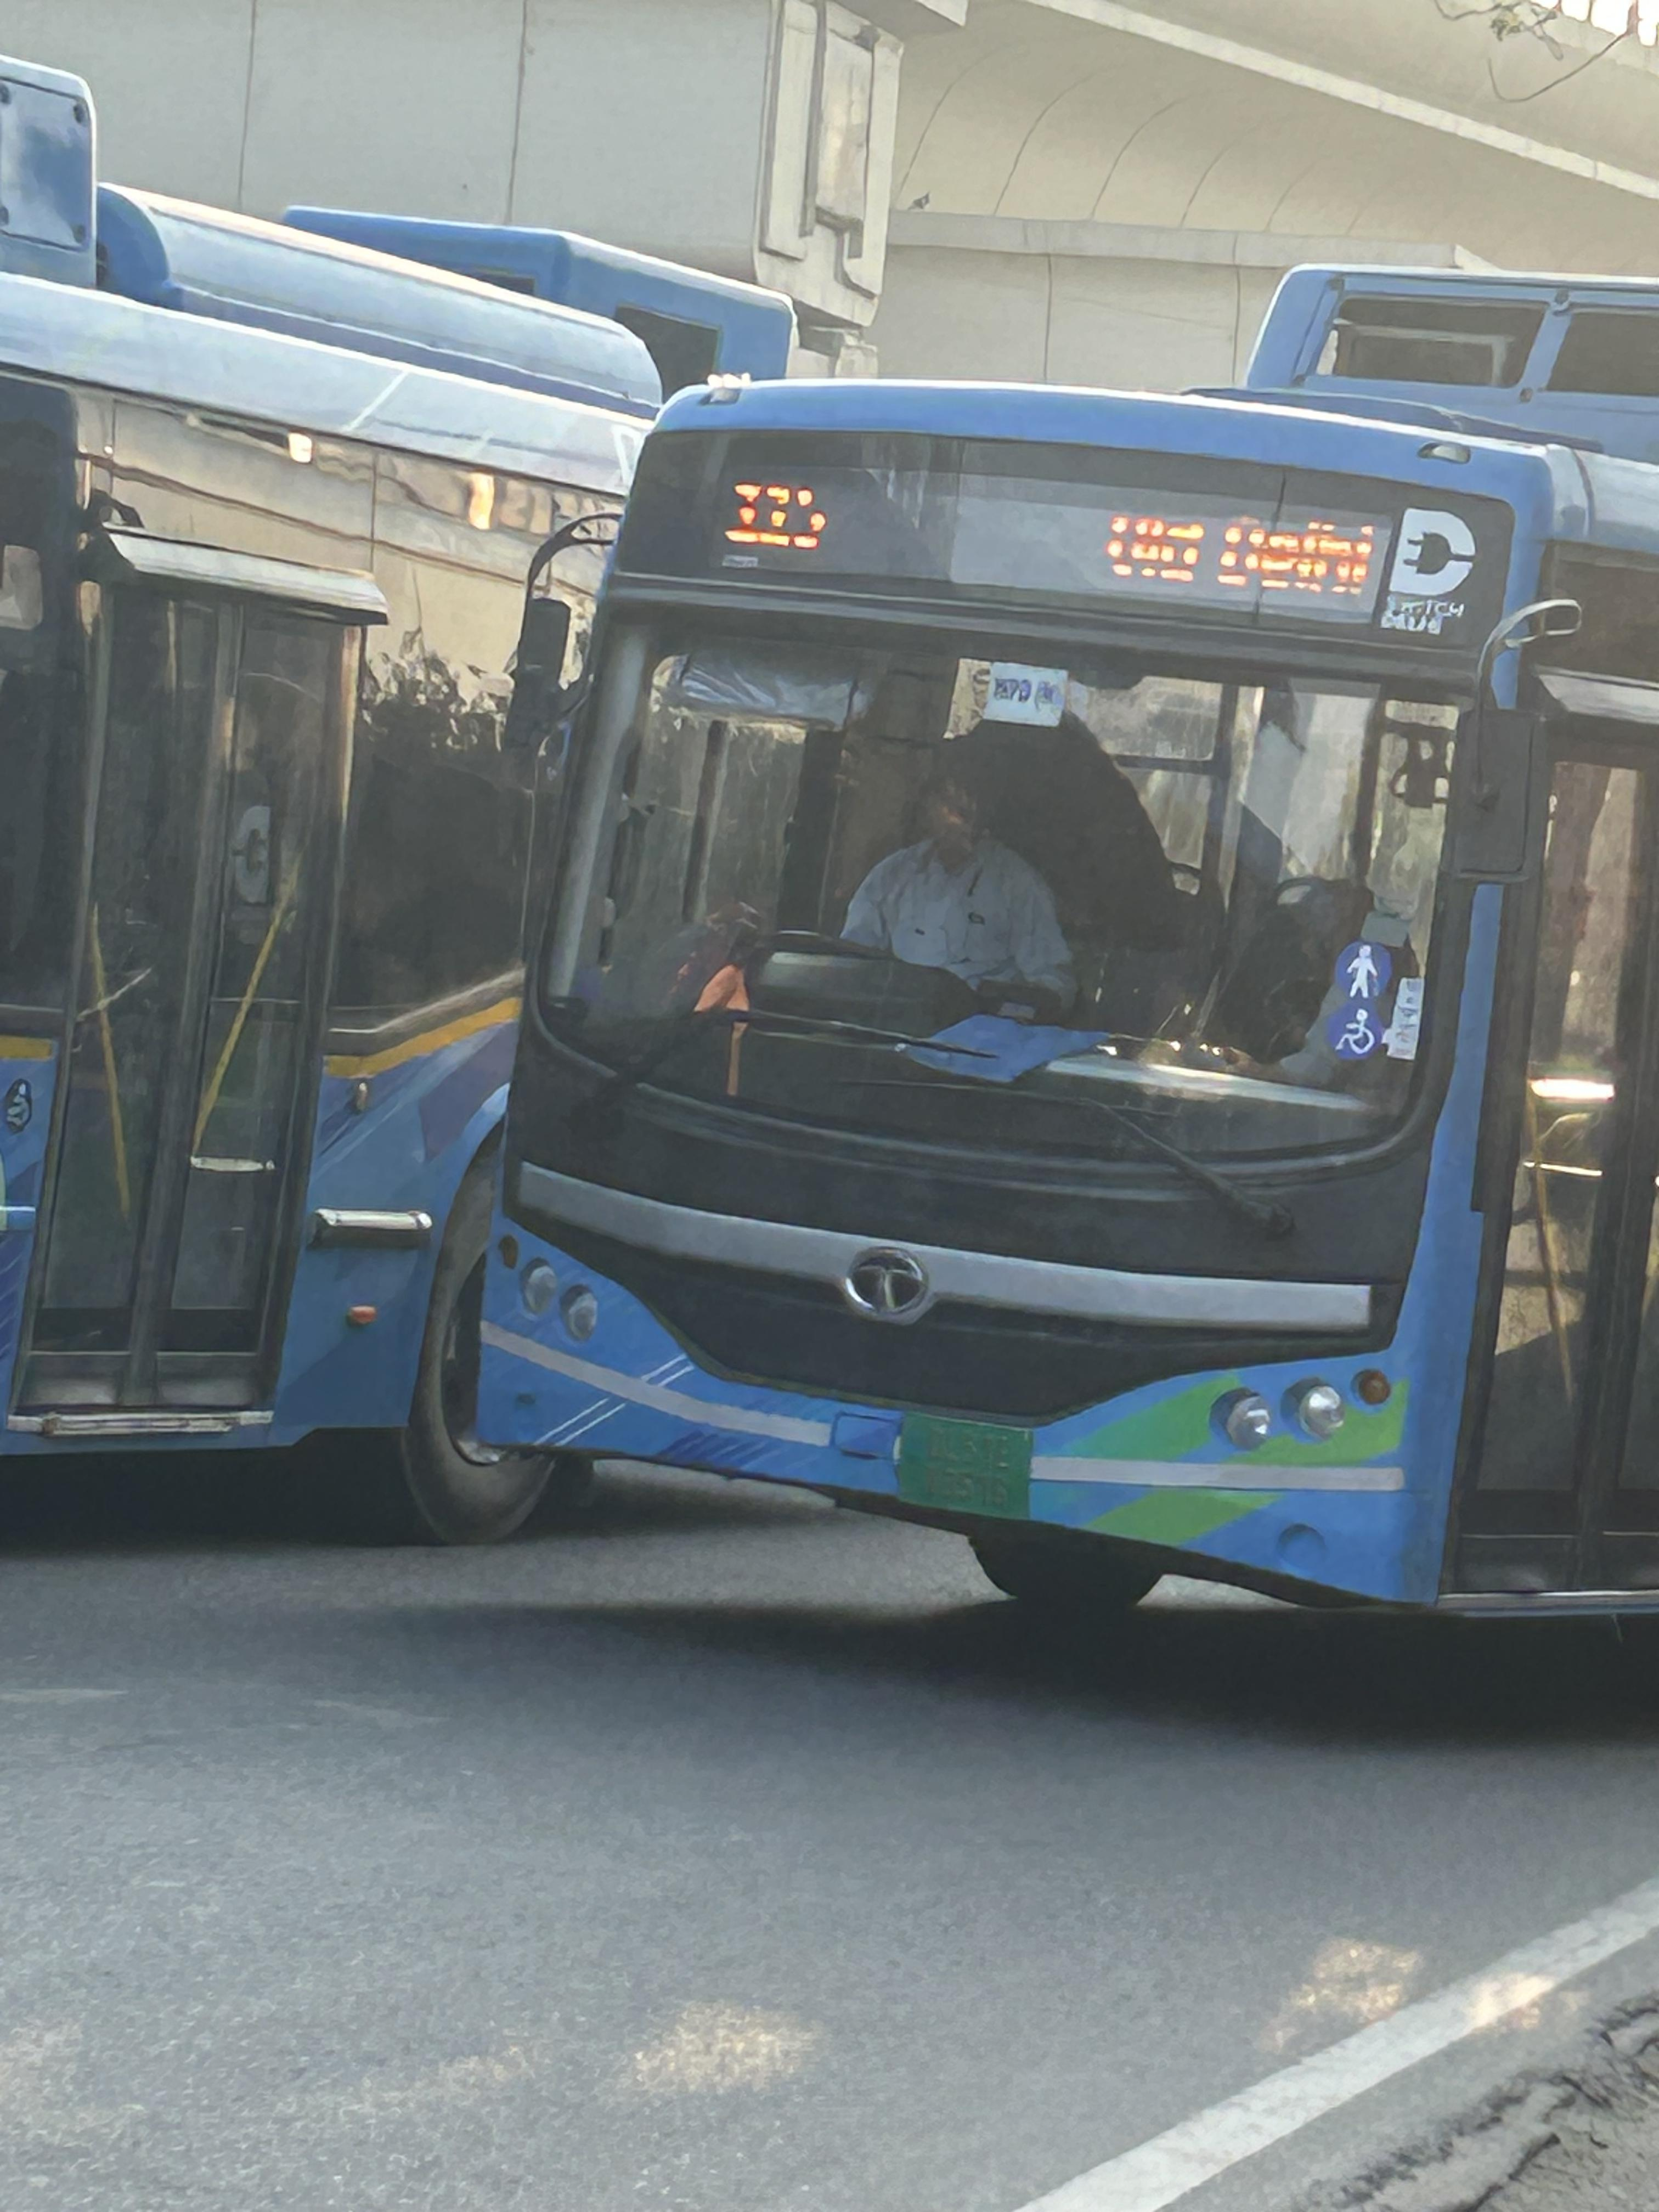Bus: (455, 362, 1659, 1569), (11, 60, 576, 1514)
Display Board: (620, 384, 1569, 653)
License Plate: (883, 1415, 1059, 1542)
